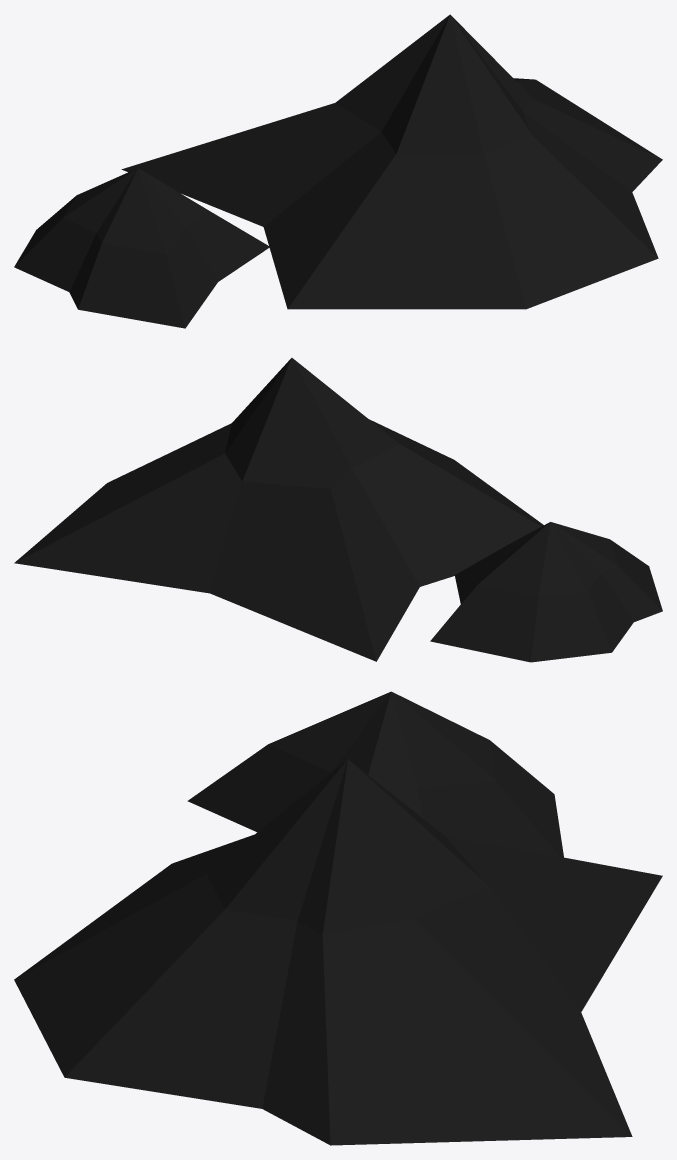
File: ExplosiveMaterial_3D.glb
The picture shows the model from 3 angles, top to bottom: view 1: azimuth 30°, elevation 25°; view 2: azimuth 150°, elevation 25°; view 3: azimuth 270°, elevation 25°; orthographic projection. The views are drawn at different scales.
Parts seen in each view (by area): view 1: explosiveMaterialLowPoly; view 2: explosiveMaterialLowPoly; view 3: explosiveMaterialLowPoly.
Part boxes in pixels (x1=…): explosiveMaterialLowPoly: x1=14, y1=14, x2=662, y2=328; explosiveMaterialLowPoly: x1=14, y1=358, x2=662, y2=662; explosiveMaterialLowPoly: x1=14, y1=691, x2=662, y2=1145.
Bounding box in the file's own units: 0.3965 × 0.121 × 0.2813.
1 material, 1 textured.
